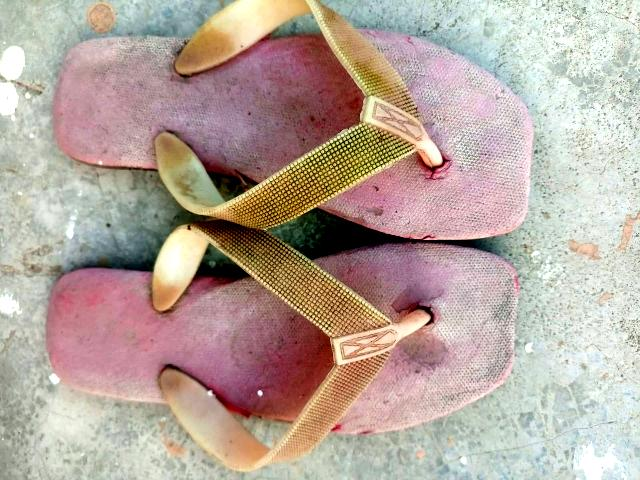sandal: (39, 6, 534, 246), (50, 242, 499, 421)
